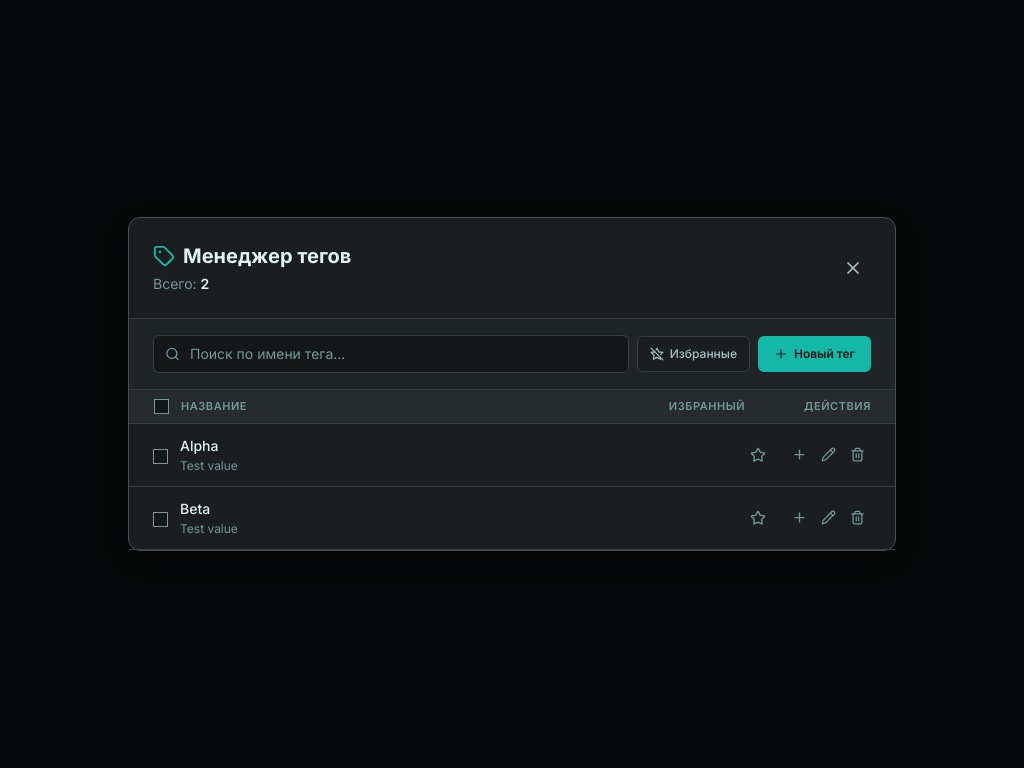
TagManagerModal › Поиск › фильтрует теги по имени
This screenshot has width=1024, height=768.
Expected: the text "Alpha" is shown, x1=180 y1=437 x2=218 y2=454
Type "alph" into the field named "Поиск тегов". click: coordinates (391, 354)
box: x1=153 y1=335 x2=629 y2=373
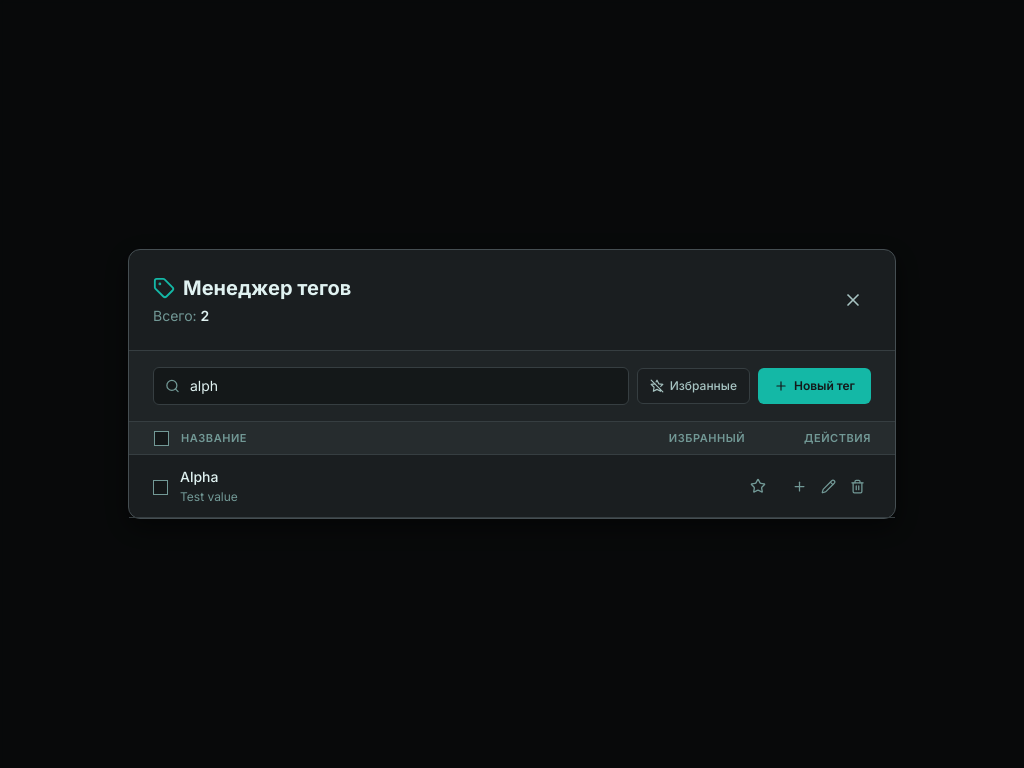
Expected: the text "Alpha" is shown, x1=180 y1=468 x2=218 y2=485
Now the text "Beta" is gone
